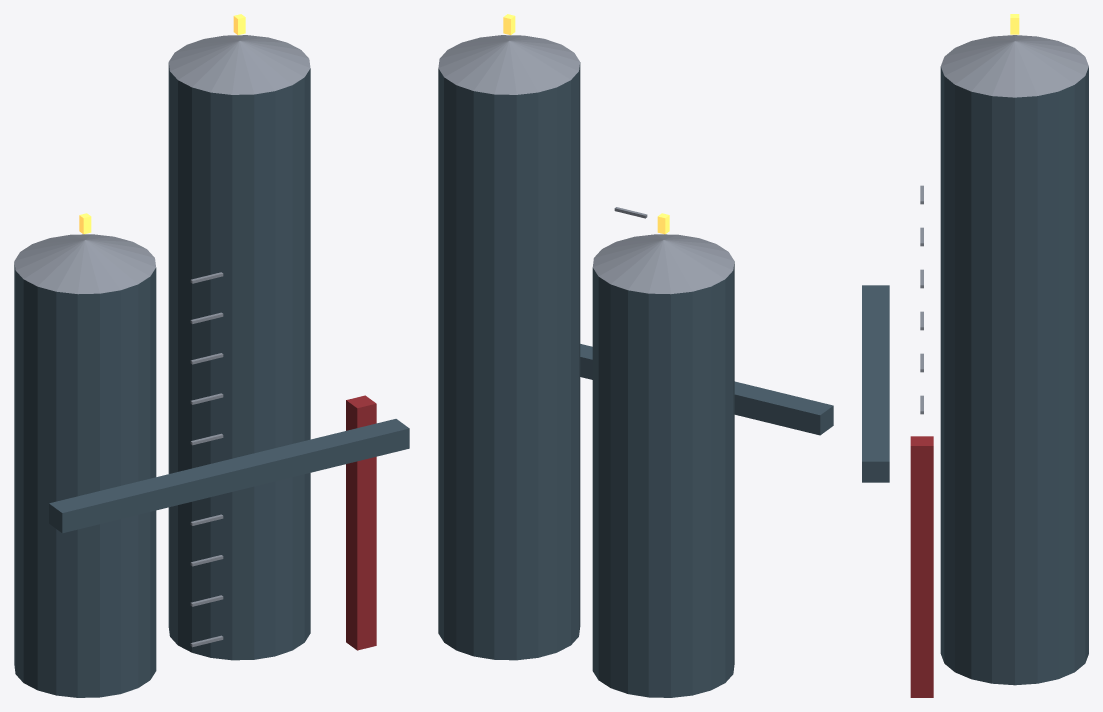
The model's file is industrial.glb.
The picture shows the model from 3 angles, left to right: view 1: azimuth 30°, elevation 25°; view 2: azimuth 150°, elevation 25°; view 3: azimuth 270°, elevation 25°; orthographic projection. The views are drawn at different scales.
Parts seen in each view (by area): view 1: Landmark; view 2: Landmark; view 3: Landmark.
Part boxes in pixels (x1,y1,x2,y2): Landmark: (14, 14, 409, 697); Landmark: (438, 14, 833, 697); Landmark: (862, 14, 1088, 697).
Size of the model in its own units: 9 by 15.2 by 4.9.
